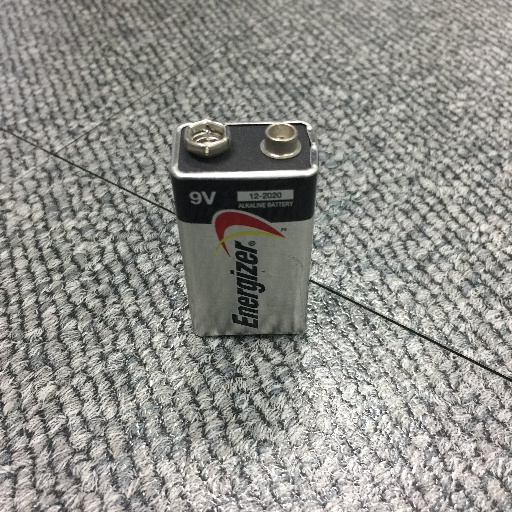Battery_3: (141, 88, 348, 363)
